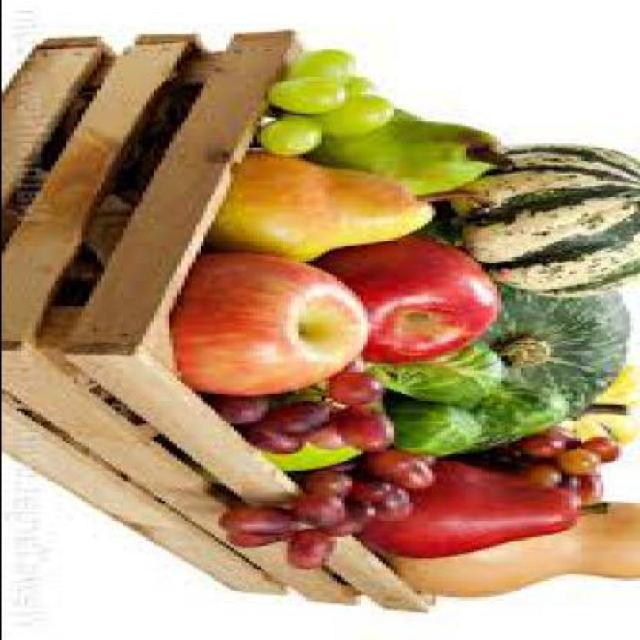BIODEGRADABLE: (444, 144, 638, 302), (165, 255, 377, 398), (365, 458, 613, 559), (308, 236, 500, 366), (392, 500, 638, 600), (214, 156, 441, 264), (473, 287, 636, 422), (312, 112, 518, 199), (388, 346, 499, 405), (568, 366, 638, 445), (475, 389, 568, 438), (397, 406, 480, 459), (317, 97, 400, 137), (271, 79, 351, 116), (270, 444, 362, 476), (255, 118, 323, 158), (369, 456, 434, 492), (267, 402, 335, 435), (297, 494, 354, 531), (343, 413, 395, 453), (286, 54, 362, 81), (358, 482, 408, 522), (224, 510, 302, 535), (328, 374, 381, 408), (518, 432, 571, 460), (328, 507, 374, 539), (297, 531, 335, 569), (298, 477, 350, 501), (511, 464, 560, 488), (564, 405, 628, 423), (229, 533, 293, 550), (560, 452, 602, 477), (225, 400, 266, 425), (564, 475, 605, 500), (259, 431, 301, 455), (342, 79, 381, 98), (316, 430, 347, 452), (590, 441, 621, 461)
